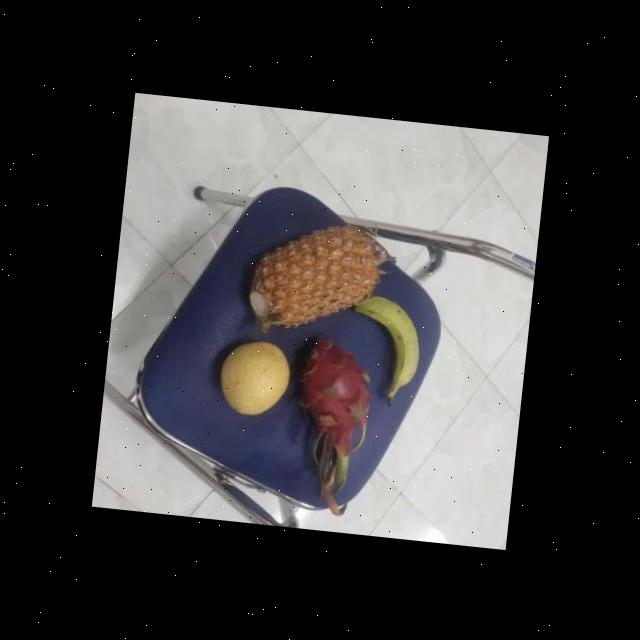banana: (348, 288, 426, 397)
pear: (213, 332, 291, 420)
pineapple: (244, 211, 384, 344)
pitaya: (286, 330, 376, 460)
